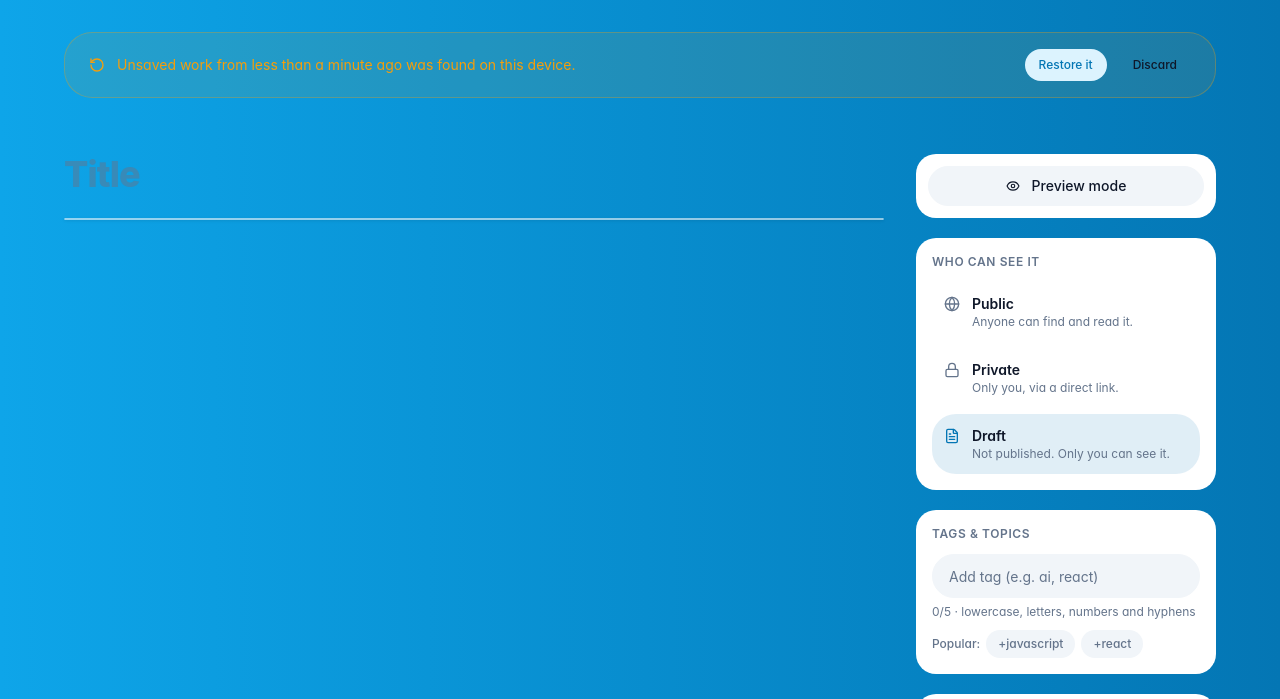
Test case: WritePost Page › restores draft into inputs when Restore it is clicked
This screenshot has width=1280, height=699.
Click the button "Restore it": (1066, 65) [1025,49,1107,81]
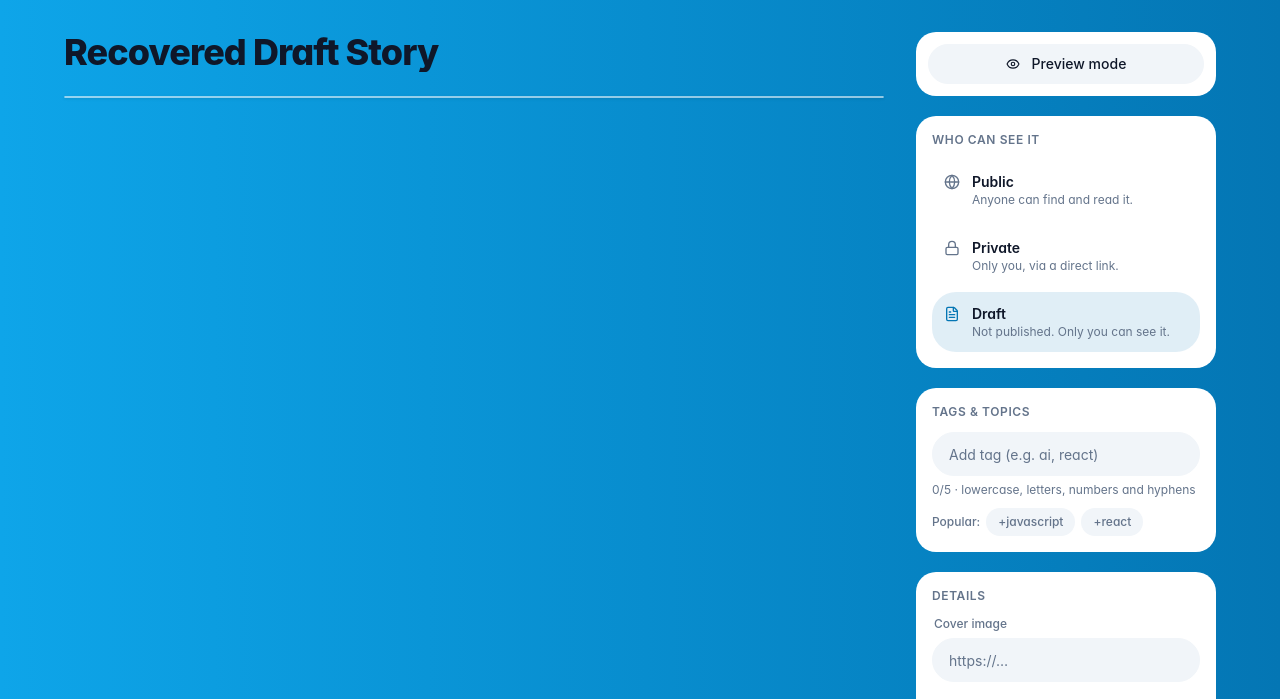
Expected: the text box with placeholder "Title" holds "Recovered Draft Story", [64,32,884,72]
